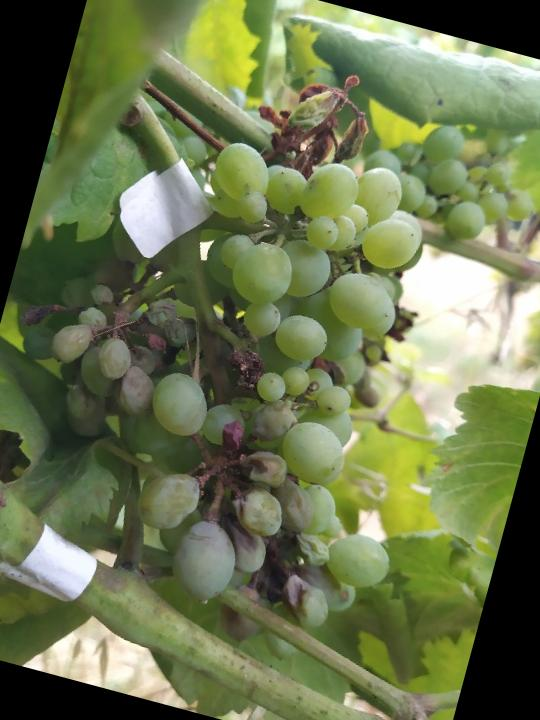grape: (0, 89, 496, 652)
